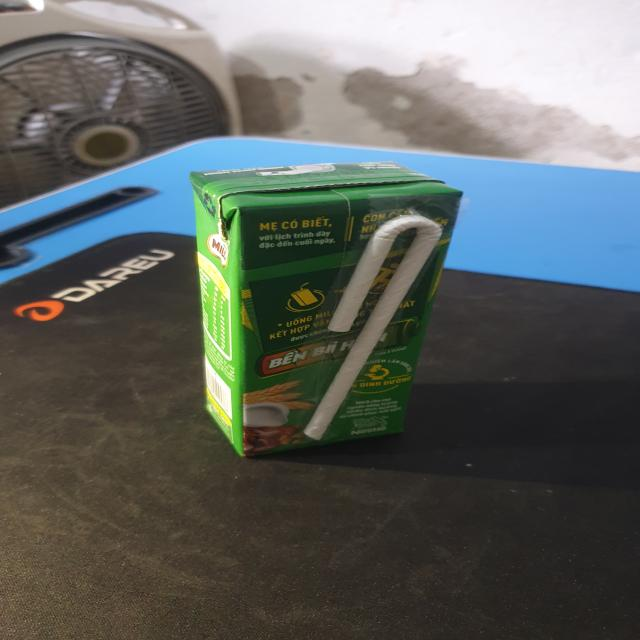Milo: (187, 158, 468, 462)
